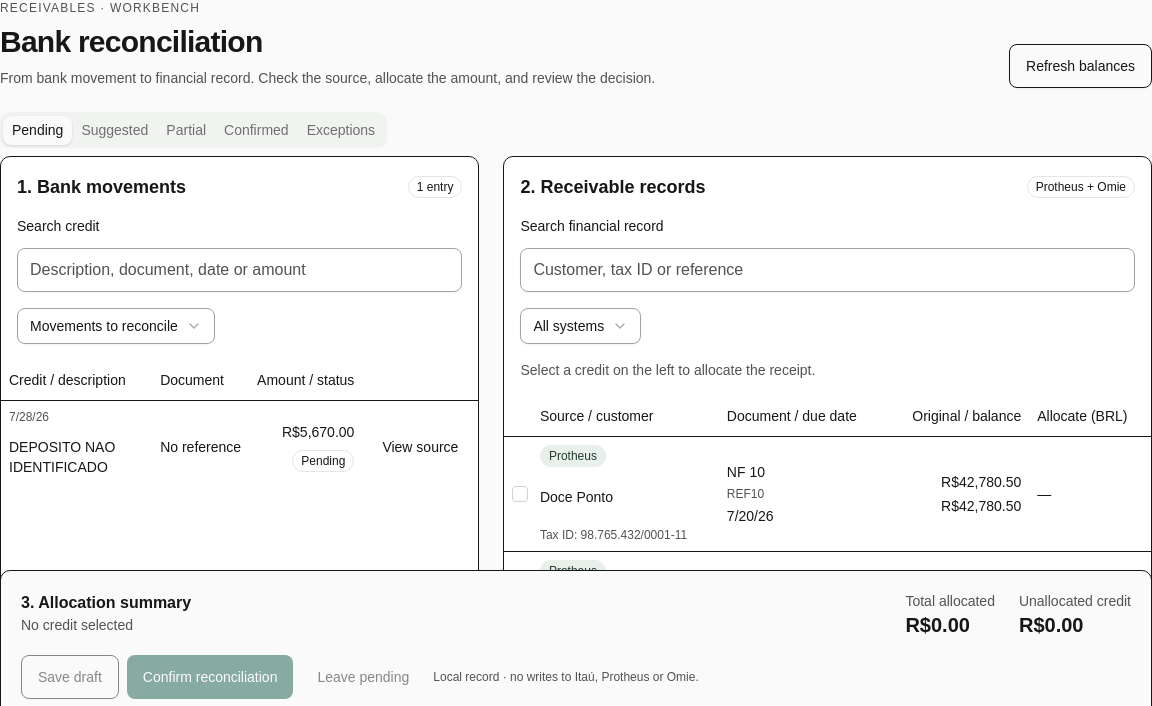
formats reconciliation details in en and preserves original evidence
Press the mouse on the tab "Suggested" at {"x": 115, "y": 130}, box [72,116,157,144]
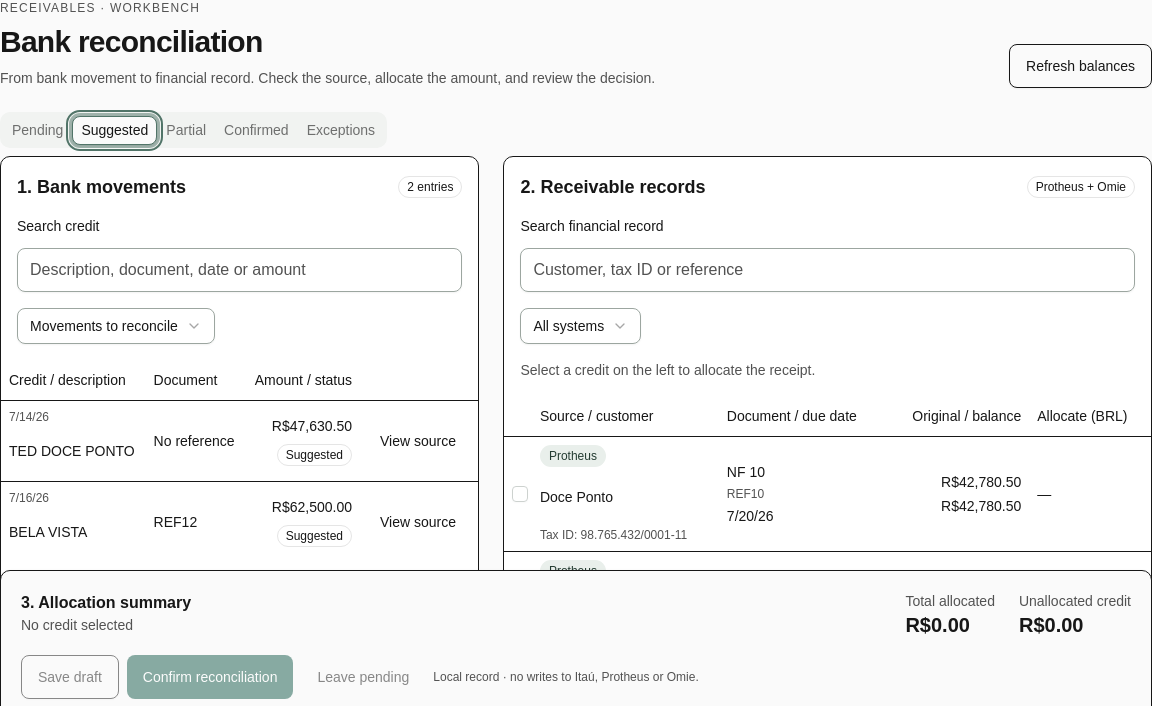
Click the button "View source" in the row of "7/14/26" at {"x": 418, "y": 441}, box [368,419,468,463]
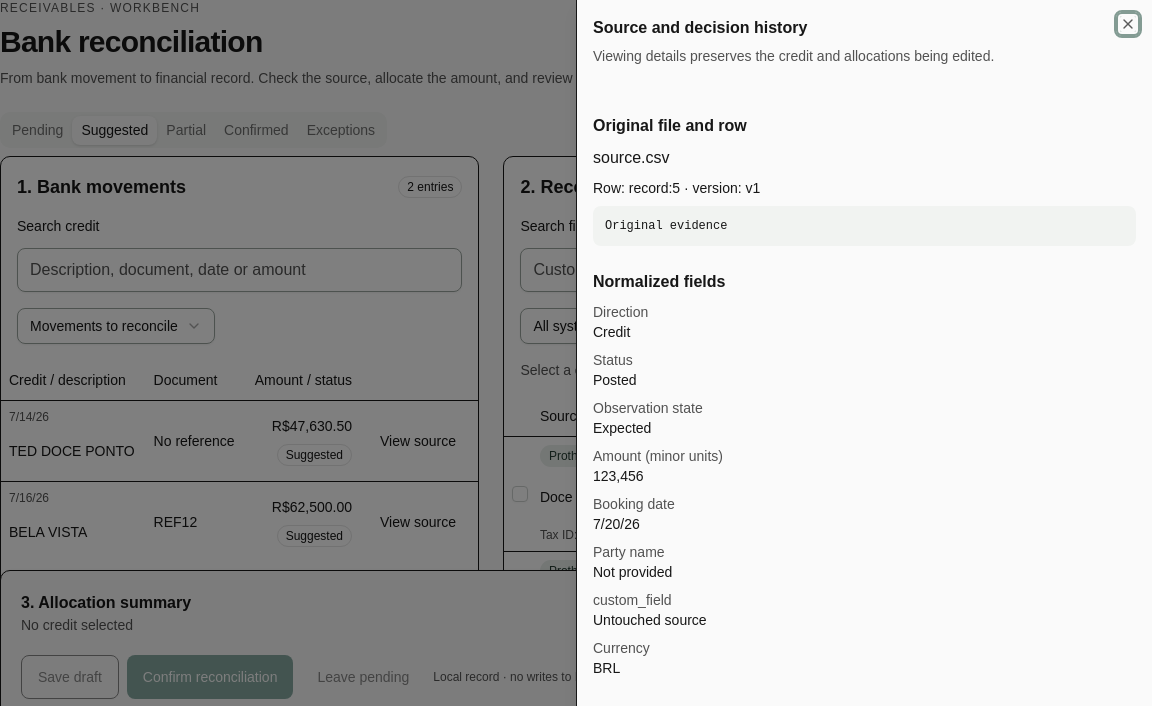
Now the text "Original evidence" is shown, box [593,206,1136,246]
Now the text "Credit" is shown, box [593,324,630,340]
Now the text "Posted" is shown, box [593,372,637,388]
